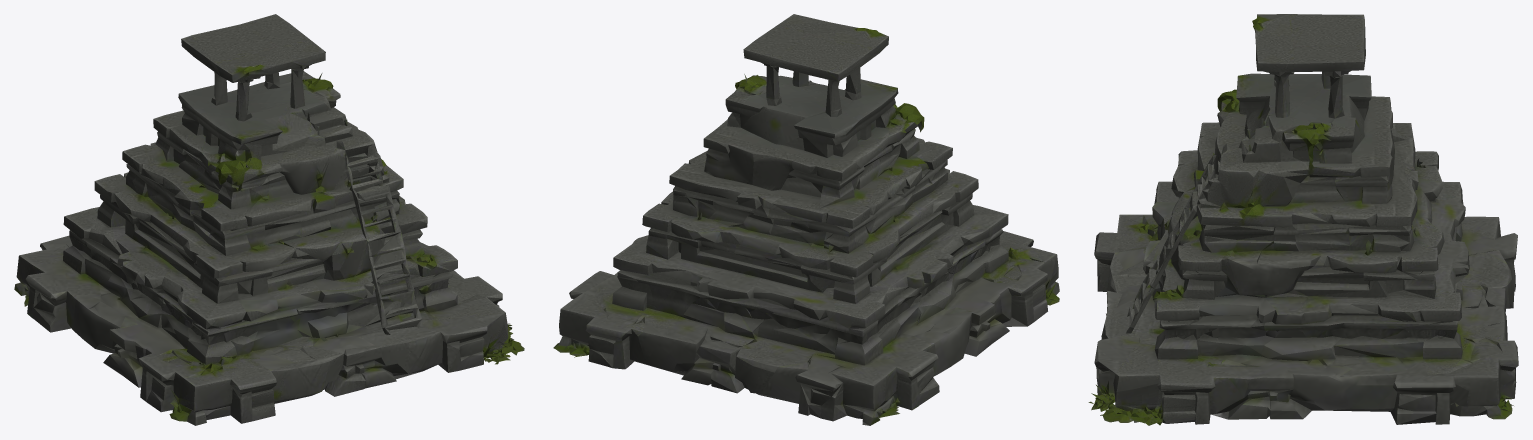
File: autel.glb
3 renders of one model, left to right at view 1: azimuth 30°, elevation 25°; view 2: azimuth 150°, elevation 25°; view 3: azimuth 270°, elevation 25°, orthographic. The views are drawn at different scales.
Bounding box in the file's own units: 1.86 × 1.44 × 1.89.
Materials: 1 (1 with a texture image).
